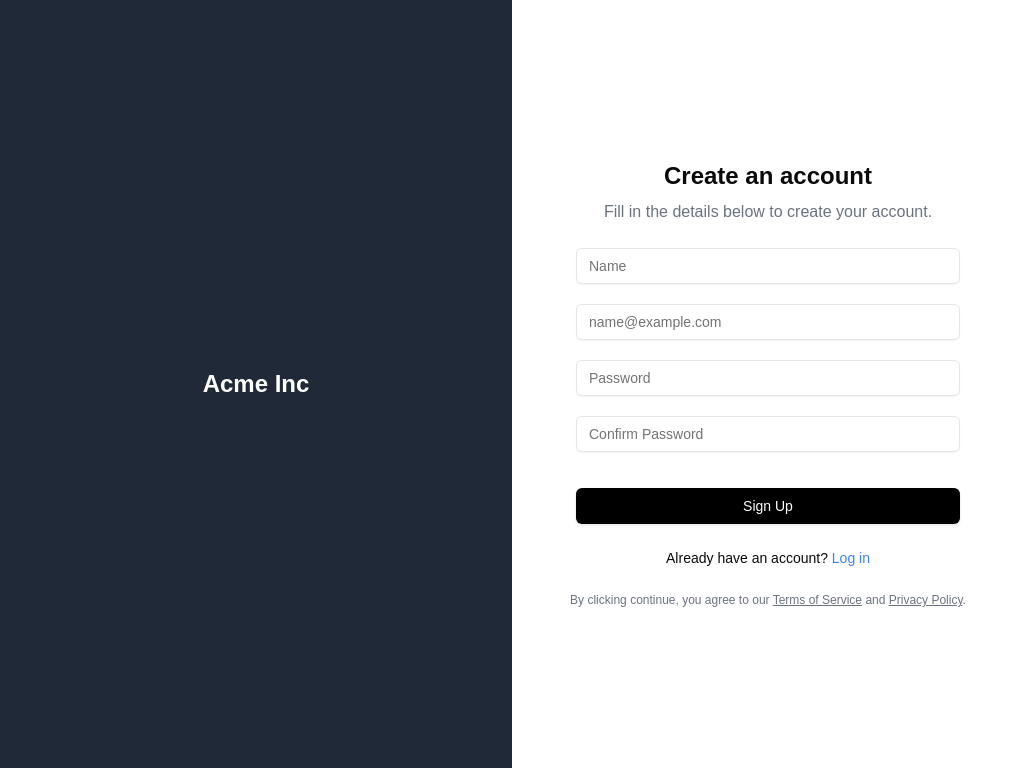
SignupPage Component › displays validation errors when inputs are invalid
This screenshot has width=1024, height=768.
Click the button "Sign Up" at (768, 506), box [576, 488, 960, 524]
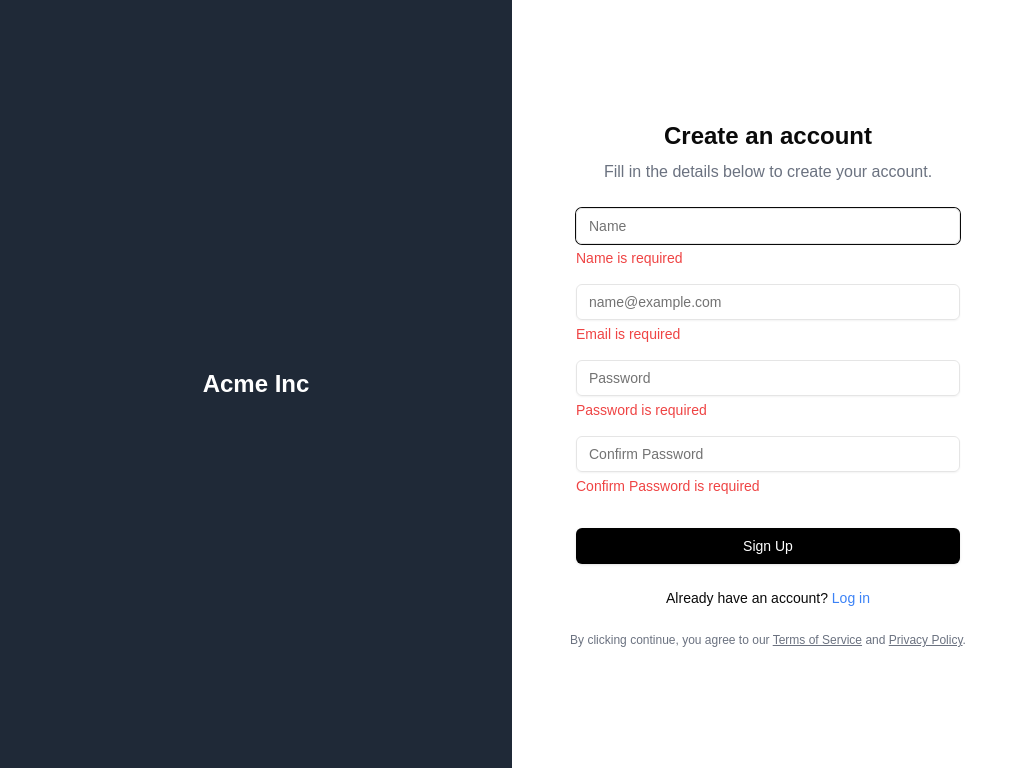
expect the text "Name is required" is shown: met, box [576, 250, 683, 266]
expect the text "Email is required" is shown: met, box [576, 326, 680, 342]
expect the text "Password is required" is shown: met, box [576, 402, 707, 418]
